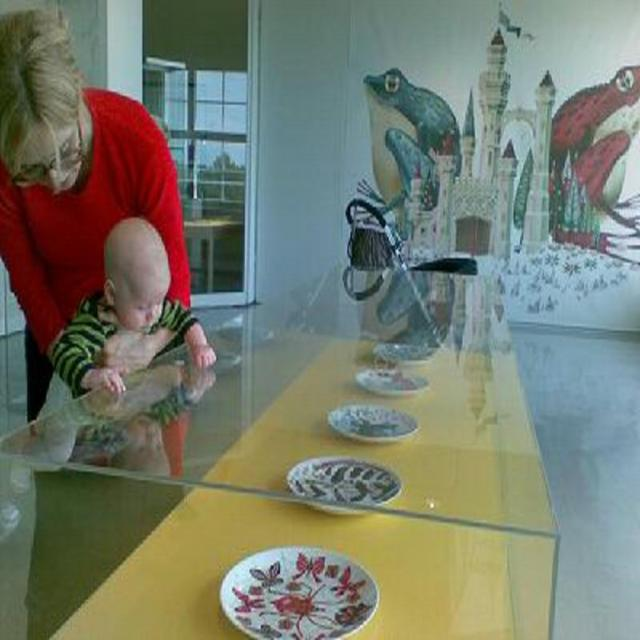non-organic waste: (219, 538, 384, 640), (282, 452, 407, 532)
